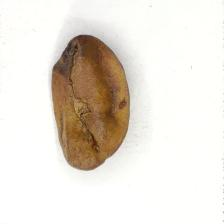NG: (53, 39, 116, 158)
